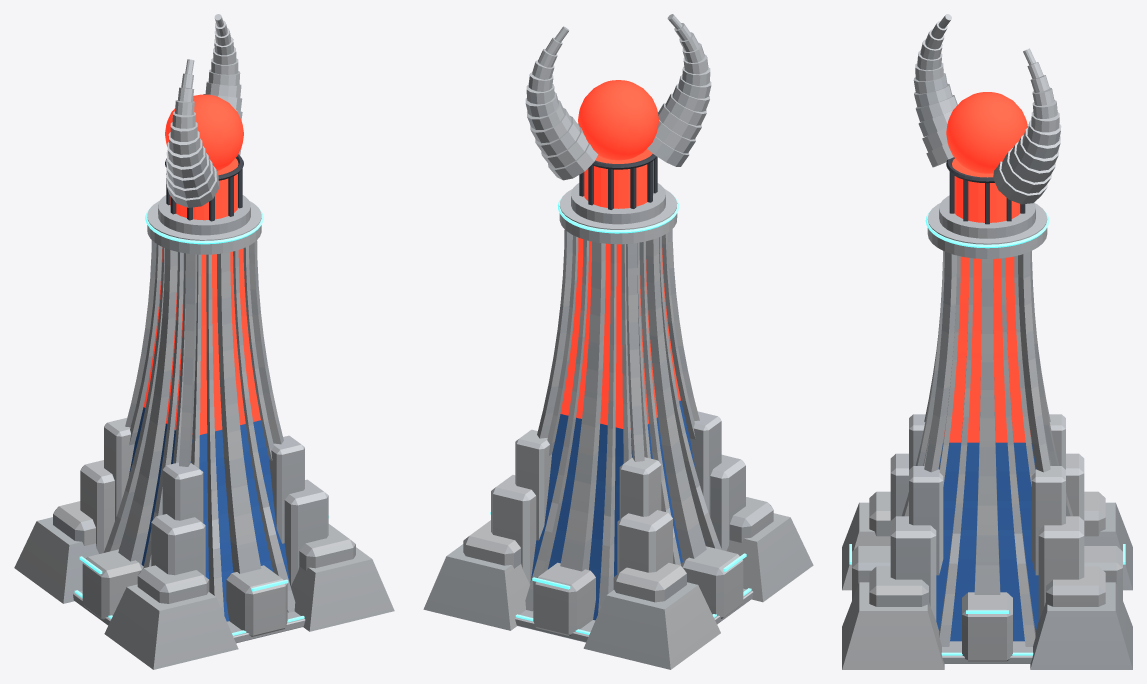
The model's file is pylonesanglant.glb.
The picture shows the model from 3 angles, left to right: view 1: azimuth 30°, elevation 25°; view 2: azimuth 150°, elevation 25°; view 3: azimuth 270°, elevation 25°; orthographic projection. The views are drawn at different scales.
Visible parts, largest first — view 1: pylonesanglant; view 2: pylonesanglant; view 3: pylonesanglant.
Boxes of the visible parts, left/top/right/bottom form: pylonesanglant: left=14, top=14, right=394, bottom=669; pylonesanglant: left=423, top=14, right=813, bottom=669; pylonesanglant: left=842, top=14, right=1132, bottom=669.
Size of the model in its own units: 2.04 by 4.47 by 2.04.
